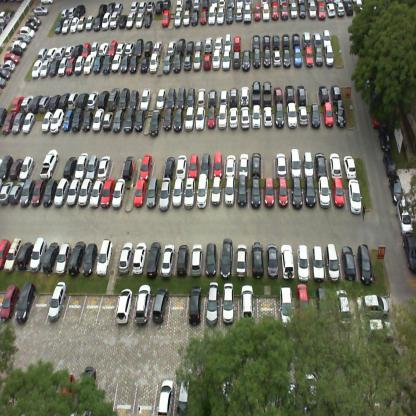car: (0, 283, 21, 324), (364, 316, 394, 344), (46, 290, 69, 326), (371, 346, 399, 374), (303, 371, 320, 415), (354, 240, 374, 277), (80, 366, 96, 412), (150, 293, 171, 328), (362, 292, 390, 318), (114, 289, 136, 322), (132, 291, 154, 324), (13, 289, 36, 320), (145, 240, 165, 275), (386, 386, 410, 415), (324, 242, 342, 280), (202, 293, 221, 329), (199, 375, 216, 415), (336, 288, 352, 330), (396, 197, 414, 234), (39, 147, 59, 180), (29, 237, 47, 273), (4, 238, 22, 274), (41, 239, 60, 273), (68, 240, 87, 274), (316, 284, 331, 327), (280, 285, 294, 329), (76, 176, 94, 210), (144, 177, 162, 211), (293, 243, 311, 277), (157, 380, 174, 416), (53, 241, 72, 273), (221, 282, 235, 325), (187, 292, 204, 327), (82, 240, 100, 273), (340, 241, 356, 278), (297, 283, 311, 325), (240, 282, 254, 324), (88, 174, 105, 208), (278, 244, 295, 278), (310, 242, 326, 278), (60, 372, 75, 410), (160, 241, 177, 274), (174, 243, 191, 276), (203, 241, 218, 278), (177, 378, 192, 415), (170, 176, 186, 210), (188, 242, 204, 276), (263, 243, 279, 277), (344, 176, 362, 206), (234, 241, 249, 277), (221, 378, 235, 416), (65, 176, 81, 209), (113, 177, 129, 210), (156, 178, 172, 211), (132, 240, 148, 273), (217, 242, 233, 275), (100, 178, 116, 210), (96, 244, 113, 274), (248, 240, 263, 274), (53, 178, 70, 208), (404, 232, 416, 274), (316, 177, 332, 208), (19, 178, 36, 207), (314, 148, 330, 178), (118, 242, 134, 272), (16, 242, 33, 270), (283, 382, 297, 415), (133, 177, 146, 212), (73, 154, 91, 179), (388, 174, 403, 204), (341, 149, 357, 177), (30, 179, 46, 207), (0, 179, 16, 207), (84, 153, 101, 179), (330, 179, 345, 208), (197, 179, 211, 210), (288, 180, 304, 207), (122, 106, 137, 134), (288, 147, 302, 177), (301, 148, 315, 178), (235, 179, 249, 209), (262, 178, 276, 208), (276, 179, 290, 209), (90, 106, 106, 132), (96, 154, 112, 180), (49, 108, 65, 134), (8, 180, 25, 204), (328, 148, 342, 177), (209, 180, 223, 209), (42, 178, 56, 207), (0, 152, 14, 181), (19, 155, 34, 182), (276, 148, 289, 179), (304, 178, 317, 209), (122, 155, 138, 180), (101, 107, 115, 135), (112, 107, 126, 135), (332, 101, 347, 127), (186, 152, 201, 178), (248, 150, 262, 177), (184, 179, 196, 210), (133, 108, 147, 134), (138, 155, 153, 179), (249, 179, 261, 209), (8, 158, 24, 180), (150, 106, 163, 133), (383, 150, 396, 177), (164, 152, 178, 177), (199, 152, 213, 177), (210, 152, 224, 177), (224, 179, 236, 208), (174, 153, 188, 177), (224, 150, 236, 178), (63, 155, 77, 179), (107, 87, 121, 111), (1, 114, 16, 136), (11, 112, 26, 134), (378, 126, 391, 151), (0, 240, 10, 272), (194, 107, 206, 133), (72, 106, 84, 132), (162, 107, 174, 132), (238, 105, 250, 130), (237, 152, 249, 177), (139, 86, 151, 110), (118, 86, 130, 110), (62, 108, 74, 132), (311, 102, 322, 128), (321, 104, 334, 126), (22, 112, 35, 134), (262, 105, 274, 128), (274, 105, 286, 128), (298, 105, 310, 128), (38, 94, 51, 115), (184, 106, 194, 133), (86, 91, 100, 110), (216, 107, 227, 131), (83, 52, 94, 76), (174, 108, 184, 134), (176, 86, 187, 109), (10, 96, 24, 114), (252, 105, 262, 130), (205, 108, 216, 130), (228, 106, 239, 128), (330, 82, 342, 102), (262, 80, 272, 104), (41, 112, 53, 132), (82, 109, 92, 133), (102, 54, 114, 74), (92, 54, 104, 74), (48, 58, 60, 78), (97, 90, 110, 108), (68, 91, 81, 109), (48, 94, 61, 112), (286, 105, 297, 126), (57, 56, 68, 77), (304, 45, 314, 68), (221, 49, 231, 72), (58, 92, 70, 111), (21, 95, 34, 112), (296, 85, 307, 105), (196, 86, 206, 108), (156, 88, 166, 110), (314, 45, 324, 67), (212, 49, 222, 71), (172, 52, 182, 74), (150, 52, 160, 74), (133, 36, 144, 56), (120, 54, 131, 74), (74, 54, 85, 74), (325, 43, 334, 67), (76, 14, 88, 32), (166, 87, 176, 108), (76, 93, 90, 108), (262, 48, 272, 69), (20, 26, 35, 40), (111, 53, 122, 72), (251, 80, 260, 103), (30, 95, 42, 112), (3, 52, 20, 64), (318, 82, 328, 102), (285, 82, 295, 102), (186, 86, 196, 106), (130, 90, 140, 110), (272, 47, 282, 67), (202, 52, 212, 72), (162, 54, 172, 74), (66, 56, 76, 76), (316, 0, 326, 20), (109, 10, 119, 30), (193, 50, 202, 72), (139, 57, 150, 75), (31, 60, 42, 78), (125, 12, 136, 30), (70, 42, 83, 57), (55, 45, 67, 61), (32, 4, 48, 16), (326, 0, 336, 19), (93, 13, 103, 32), (322, 27, 331, 48), (243, 3, 252, 24), (73, 3, 86, 17), (183, 54, 193, 72), (129, 54, 138, 74), (81, 40, 91, 58), (37, 46, 49, 61), (40, 59, 50, 77), (308, 0, 317, 20), (216, 6, 225, 26), (162, 9, 171, 29), (143, 11, 153, 29), (102, 11, 111, 31), (0, 67, 12, 82), (354, 0, 364, 18), (242, 49, 250, 71), (107, 39, 118, 55), (343, 0, 354, 16), (61, 18, 72, 34), (240, 86, 249, 105), (253, 4, 262, 23), (288, 2, 298, 19), (115, 41, 127, 55), (2, 60, 16, 72), (28, 14, 42, 26), (153, 0, 164, 15), (16, 33, 31, 44), (274, 85, 283, 103), (229, 88, 238, 106), (208, 88, 217, 106), (90, 40, 99, 58), (336, 0, 345, 18), (294, 47, 302, 67), (253, 47, 261, 67), (232, 50, 240, 70), (224, 32, 232, 52), (167, 40, 177, 56), (144, 41, 154, 57), (47, 45, 57, 61), (118, 13, 128, 29), (54, 18, 64, 34), (0, 106, 7, 128), (96, 2, 107, 16), (25, 21, 39, 32), (251, 32, 260, 49), (85, 14, 94, 31), (271, 2, 279, 21), (262, 3, 270, 22), (208, 6, 216, 25), (200, 6, 208, 25), (70, 15, 78, 34), (176, 38, 186, 53), (64, 43, 74, 58), (302, 30, 311, 46), (262, 33, 271, 49), (204, 36, 213, 52), (298, 2, 306, 20), (226, 6, 234, 24), (174, 9, 182, 27), (98, 42, 109, 55), (283, 48, 290, 68), (154, 40, 164, 54), (125, 42, 135, 56), (10, 47, 24, 57), (220, 88, 228, 105), (233, 35, 241, 52), (280, 3, 288, 20), (183, 9, 191, 26), (312, 31, 321, 46), (13, 40, 28, 49), (292, 32, 300, 48), (272, 32, 280, 48), (136, 12, 144, 28), (191, 9, 198, 27), (128, 0, 138, 12), (136, 0, 146, 12), (145, 0, 155, 12), (235, 6, 242, 23), (282, 32, 289, 48), (186, 40, 194, 54), (60, 6, 68, 20), (112, 1, 122, 12), (214, 37, 223, 49), (106, 2, 116, 12), (38, 0, 54, 6), (195, 39, 202, 52), (0, 75, 7, 88), (162, 0, 172, 9), (68, 8, 76, 17), (184, 0, 192, 9), (175, 0, 183, 8), (192, 0, 200, 8)
